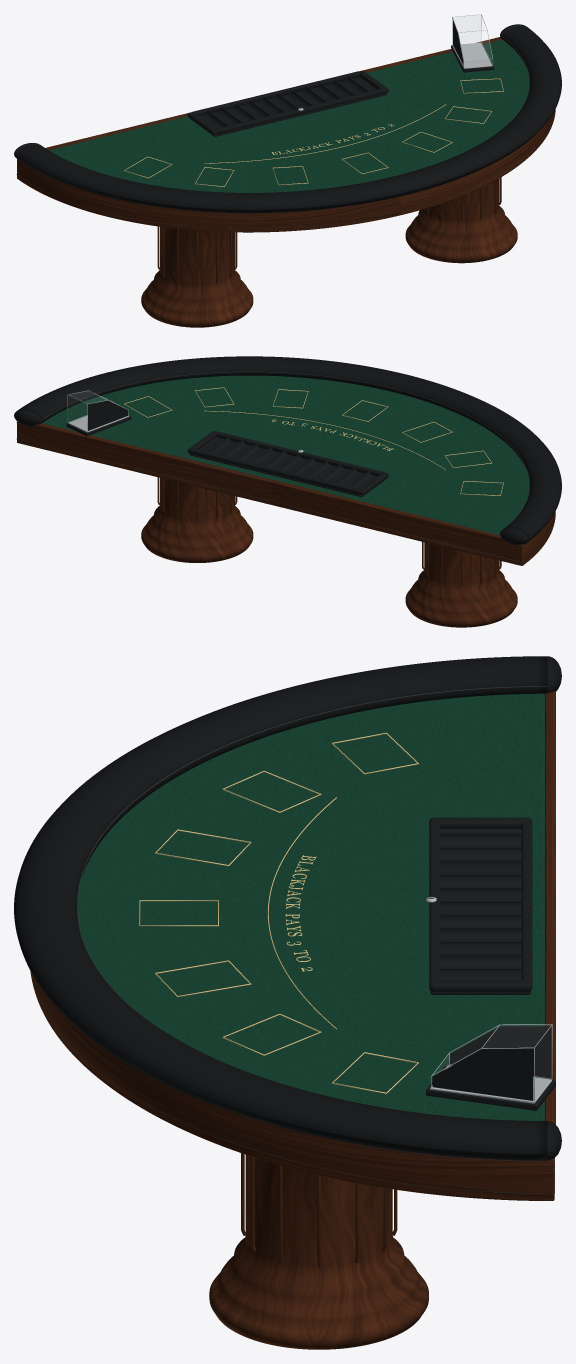
The model's file is blackjack-reference-v2.glb.
The picture shows the model from 3 angles, top to bottom: view 1: azimuth 30°, elevation 25°; view 2: azimuth 150°, elevation 25°; view 3: azimuth 270°, elevation 25°; orthographic projection. The views are drawn at different scales.
Visible parts, largest first — view 1: Drap vert bouteille — fibres, Noyer — veinage et vernis satiné, Cuir noir — grain fin, Bac noir satiné, Encre dorée du tapis, Acrylique transparent du sabot, Séparateurs nickel, Fil et passepoil anthracite; view 2: Drap vert bouteille — fibres, Noyer — veinage et vernis satiné, Cuir noir — grain fin, Bac noir satiné, Encre dorée du tapis, Fil et passepoil anthracite; view 3: Drap vert bouteille — fibres, Cuir noir — grain fin, Noyer — veinage et vernis satiné, Bac noir satiné, Encre dorée du tapis, Fil et passepoil anthracite.
Boxes of the visible parts, bbox=[...] form: Drap vert bouteille — fibres: bbox=[49, 39, 529, 192]; Noyer — veinage et vernis satiné: bbox=[17, 37, 555, 327]; Cuir noir — grain fin: bbox=[14, 24, 561, 213]; Bac noir satiné: bbox=[187, 20, 494, 136]; Encre dorée du tapis: bbox=[124, 78, 503, 187]; Acrylique transparent du sabot: bbox=[453, 15, 481, 43]; Séparateurs nickel: bbox=[298, 42, 492, 110]; Fil et passepoil anthracite: bbox=[16, 35, 540, 228]; Drap vert bouteille — fibres: bbox=[42, 375, 529, 534]; Noyer — veinage et vernis satiné: bbox=[17, 421, 555, 627]; Cuir noir — grain fin: bbox=[14, 356, 561, 544]; Bac noir satiné: bbox=[66, 400, 388, 496]; Encre dorée du tapis: bbox=[124, 387, 503, 495]; Fil et passepoil anthracite: bbox=[16, 371, 543, 562]; Drap vert bouteille — fibres: bbox=[77, 693, 544, 1120]; Cuir noir — grain fin: bbox=[14, 656, 561, 1160]; Noyer — veinage et vernis satiné: bbox=[30, 691, 555, 1349]; Bac noir satiné: bbox=[426, 817, 555, 1110]; Encre dorée du tapis: bbox=[139, 732, 418, 1093]; Fil et passepoil anthracite: bbox=[32, 686, 554, 1193].
Size of the model in its own units: 3.65 by 1.15 by 1.72.
9 materials, 2 textured.
